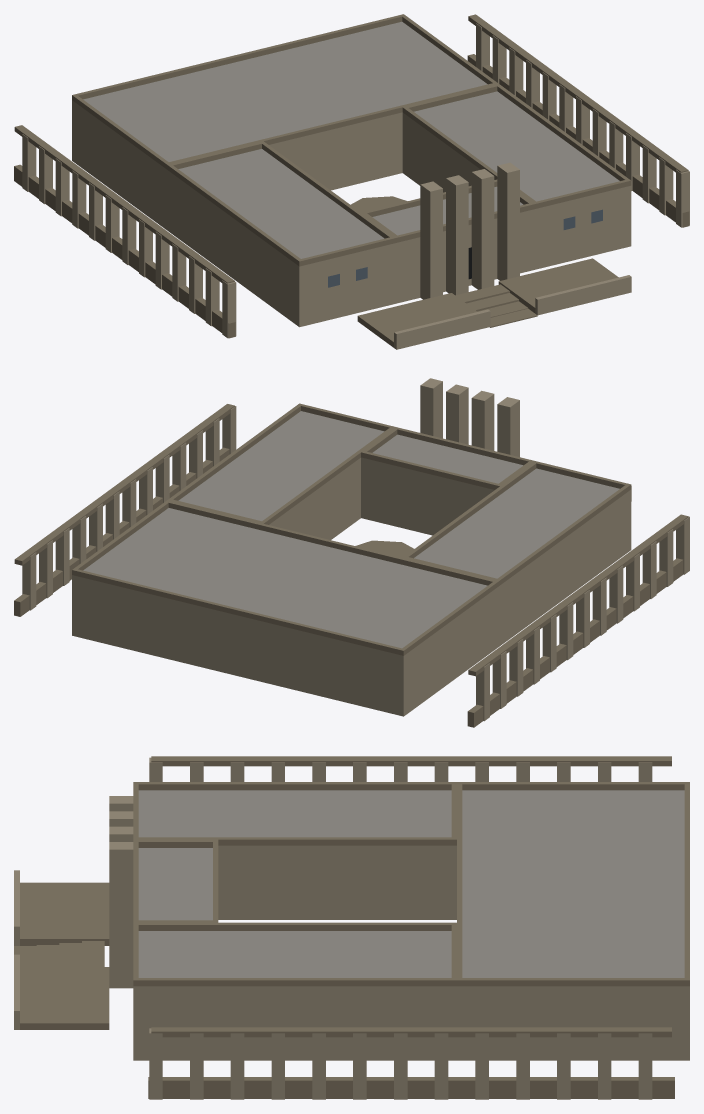
Rendered from zoo-monkey-house.glb.
3 renders of one model, top to bottom at view 1: azimuth 30°, elevation 25°; view 2: azimuth 150°, elevation 25°; view 3: azimuth 270°, elevation 25°, orthographic. The views are drawn at different scales.
Visible parts, largest first — view 1: zoo_monkey_house; view 2: zoo_monkey_house; view 3: zoo_monkey_house.
Part boxes in pixels (x1,y1,x2,y2): zoo_monkey_house: [14, 14, 689, 349]; zoo_monkey_house: [14, 378, 689, 727]; zoo_monkey_house: [14, 756, 689, 1099].
Size of the model in its own units: 43.23 by 10.12 by 44.75.
